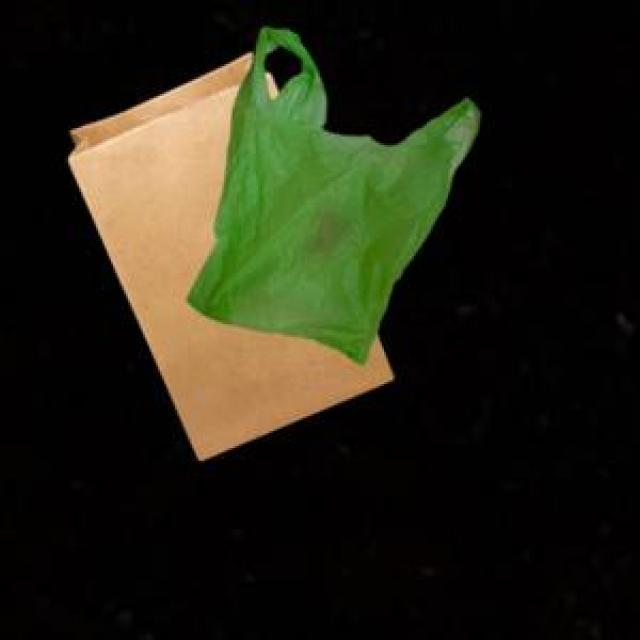paper: (64, 49, 388, 457)
